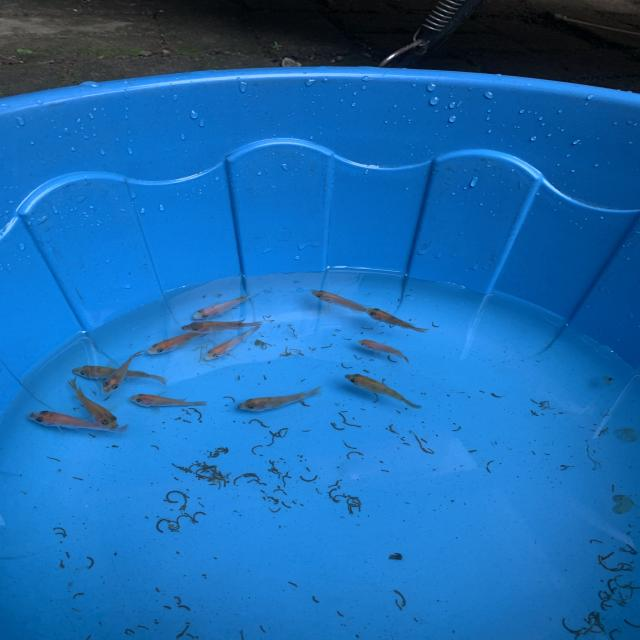nila: (20, 406, 132, 440), (337, 370, 422, 409), (64, 377, 124, 432), (200, 323, 264, 363), (231, 385, 329, 411), (188, 288, 264, 321), (363, 304, 437, 336), (144, 325, 217, 357), (125, 386, 214, 410), (68, 363, 168, 384), (101, 348, 142, 395), (351, 334, 413, 365), (308, 286, 371, 316), (174, 316, 265, 334)
